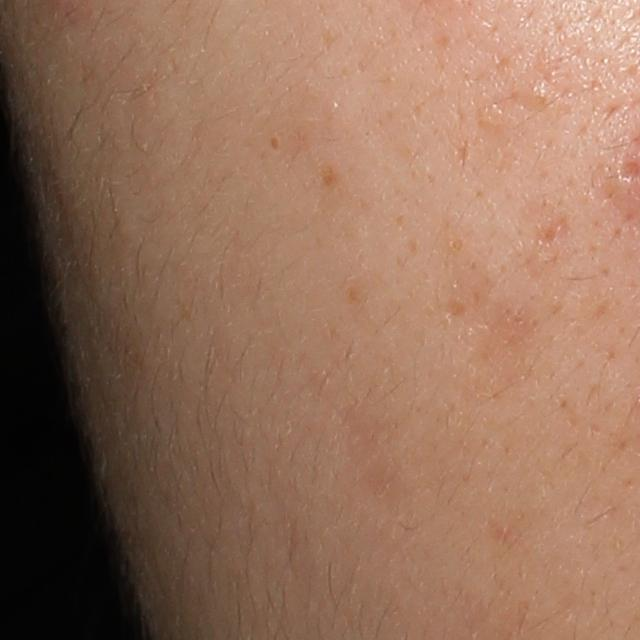atrophic_scar: (533, 218, 570, 245), (444, 298, 470, 321)
comedo: (529, 83, 553, 104)
